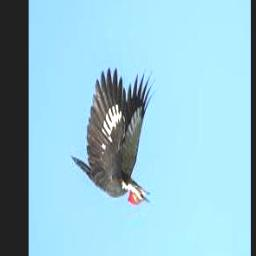Woodpecker: (71, 66, 155, 206)
